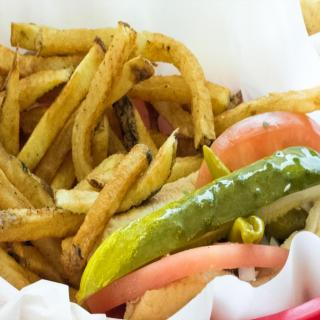French fries: (23, 34, 311, 311)
